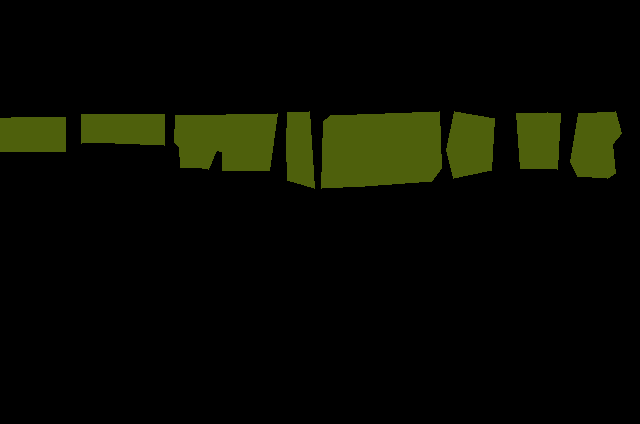Train: (0, 111, 621, 189)
